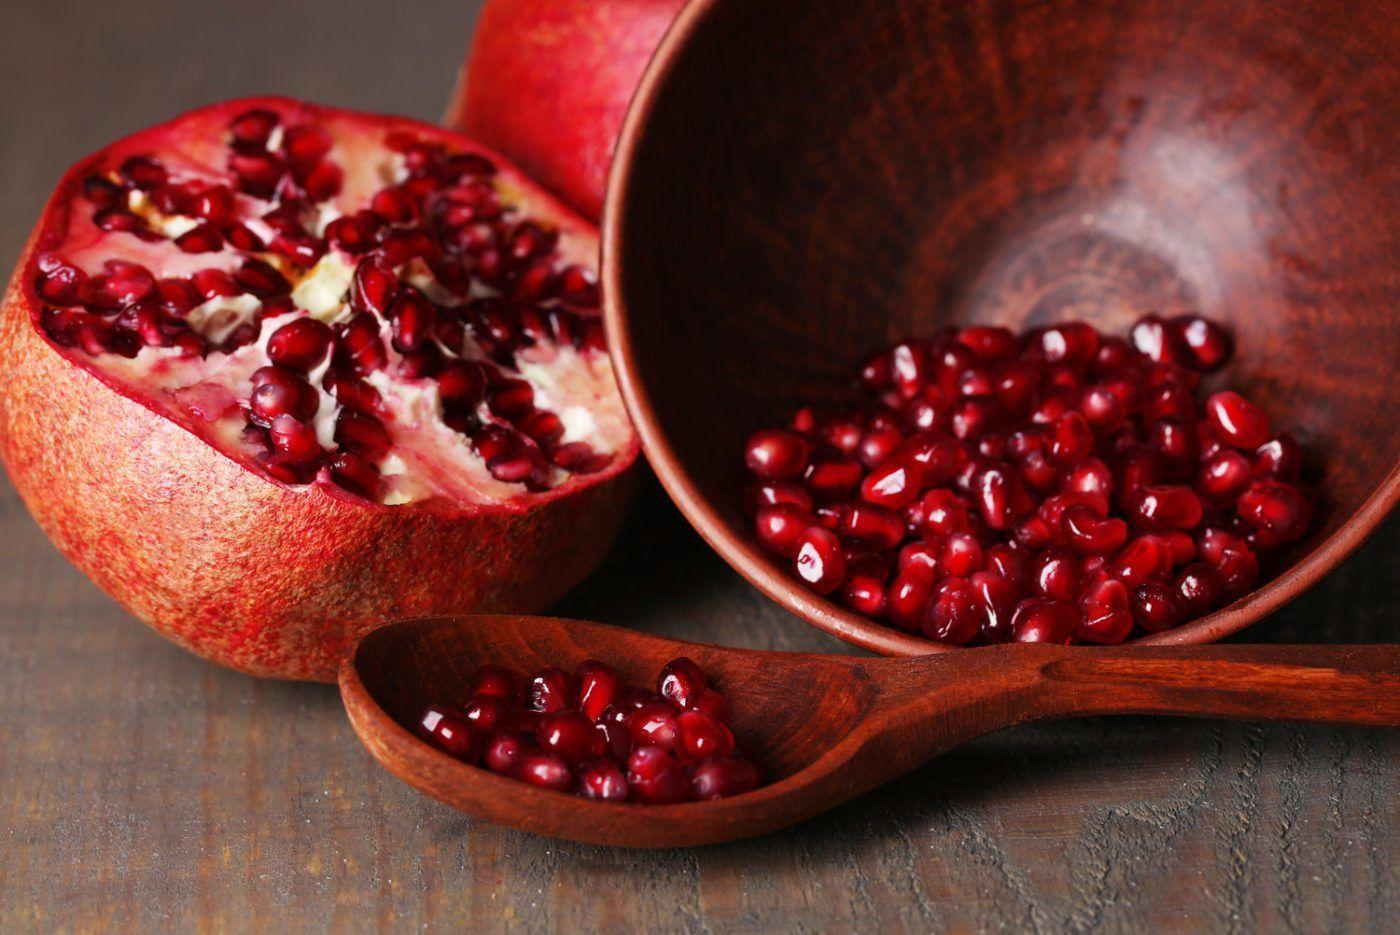peas: (743, 311, 1315, 645), (418, 655, 758, 804)
pomegranate: (444, 0, 695, 224), (1130, 311, 1231, 373)
sweetpotato: (1, 92, 643, 684)
